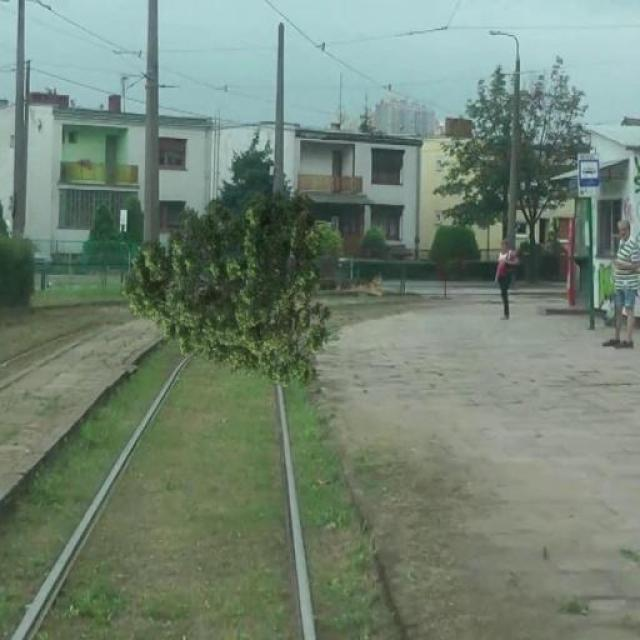Fallen Trees: (134, 183, 404, 362)
people: (607, 217, 640, 350), (494, 239, 520, 317)
